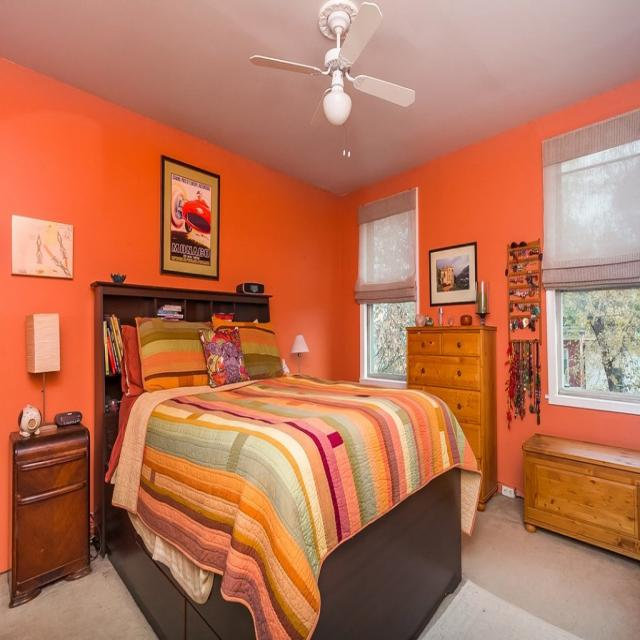Bulb: (249, 0, 413, 159)
